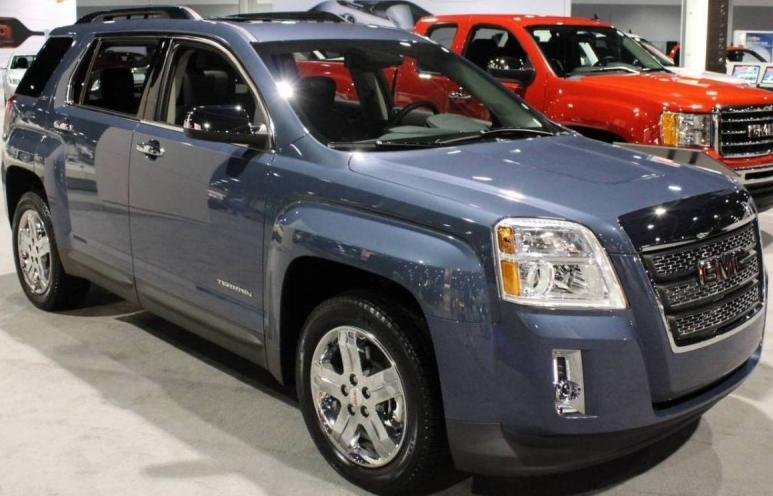front_view: (472, 168, 764, 417)
headlight: (487, 208, 610, 321)
side_glass: (77, 37, 292, 157)
